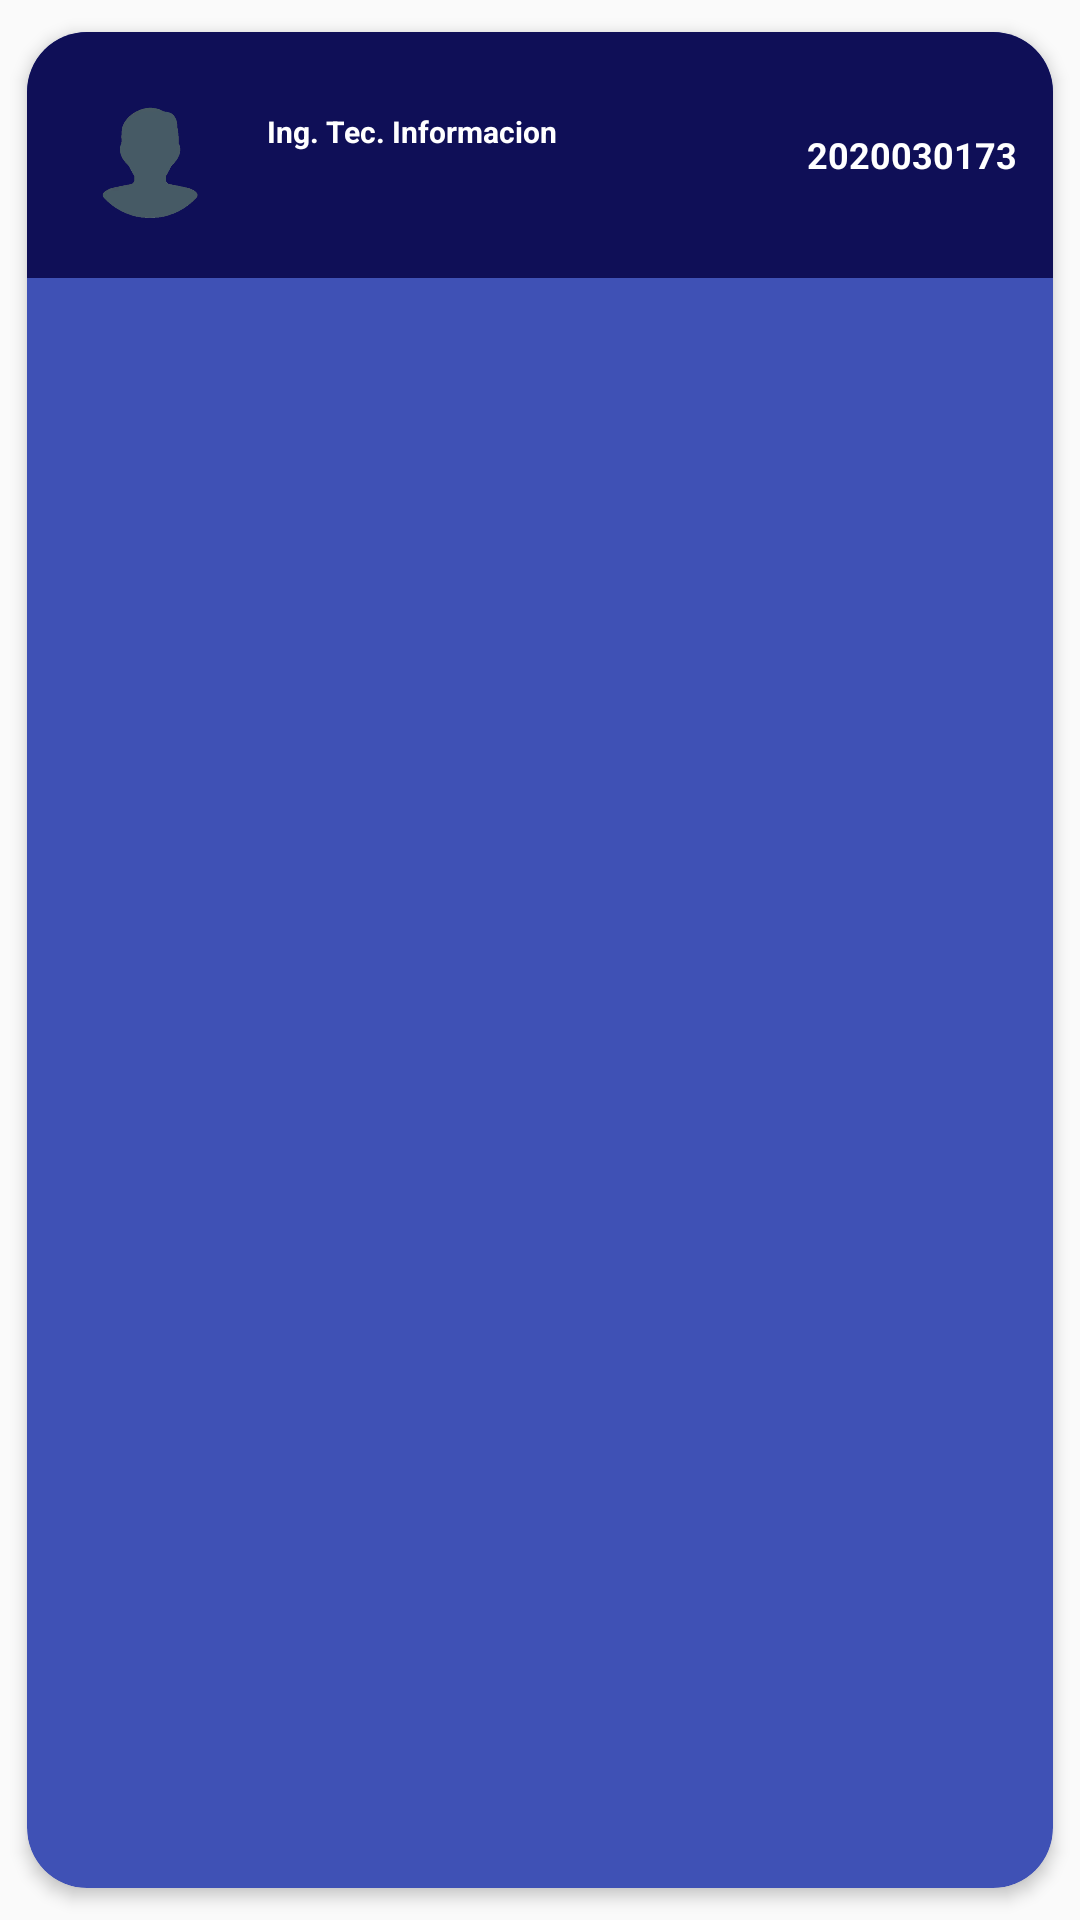

Named icons in this screenshot (1080 x 1920) and their bounding boxes, [x1,y1,x2,y2]:
perfil: [103,108,198,218]
